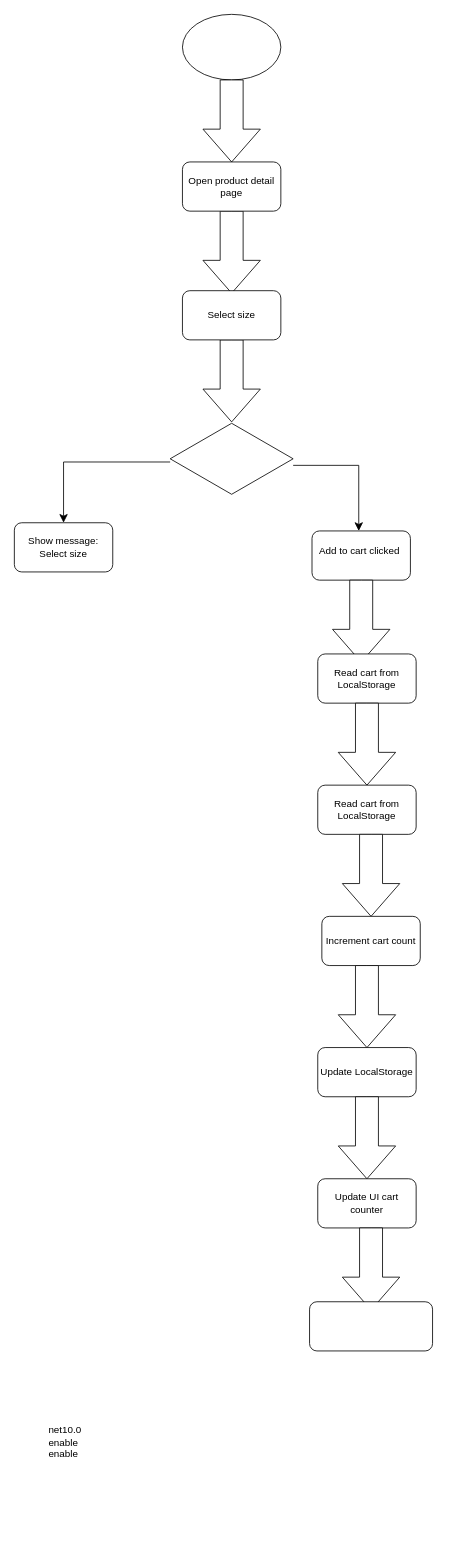
The diagram is 455 pixels wide and 1562 high, and some of its shapes have lost their labels. The shapes that lost their labels are listed below. From the top down, each one's centre as x and y in pixels, then its label:
(231,47): START
(231,458): Size selected?
(371,1326): Show confirmation
